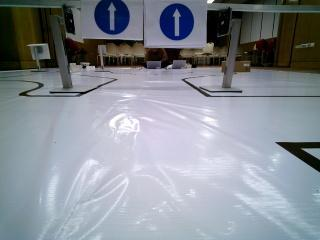straight: (144, 0, 209, 49), (83, 0, 140, 38)
